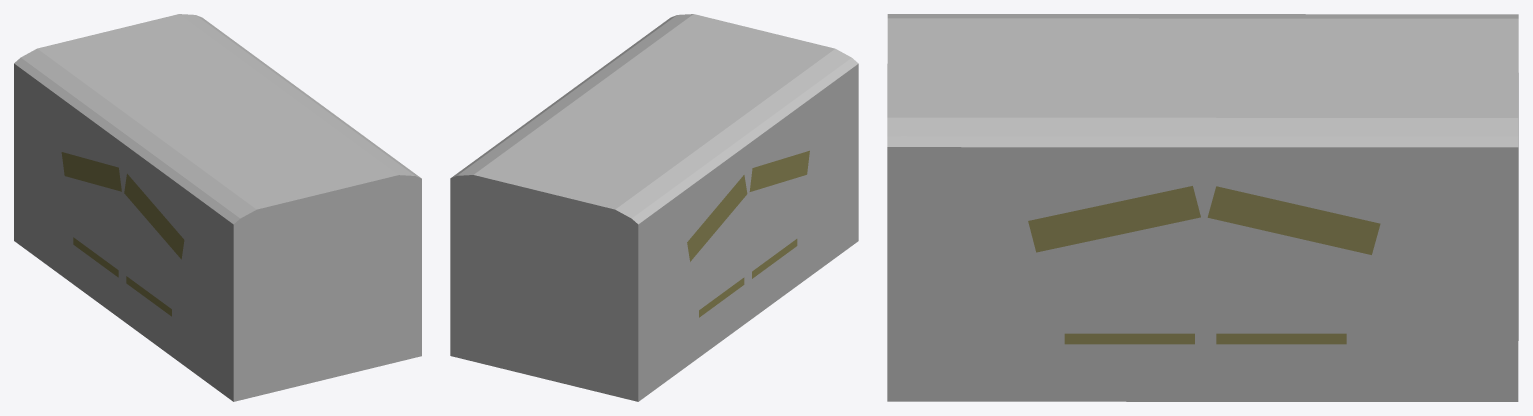
File: box-body.dae
The picture shows the model from 3 angles, left to right: view 1: azimuth 30°, elevation 25°; view 2: azimuth 150°, elevation 25°; view 3: azimuth 270°, elevation 25°; orthographic projection. The views are drawn at different scales.
Visible parts, largest first — view 1: Cube_032, Plane_019, Plane_012, Plane_024, Plane_025; view 2: Cube_032, Plane_012, Plane_019, Plane_025, Plane_024; view 3: Cube_032, Plane_013, Plane_016, Plane_026, Plane_011.
Part boxes in pixels (bbox=[...]): Cube_032: bbox=[14, 14, 421, 401]; Plane_019: bbox=[124, 173, 184, 259]; Plane_012: bbox=[61, 152, 121, 191]; Plane_024: bbox=[126, 276, 171, 316]; Plane_025: bbox=[73, 237, 118, 277]; Cube_032: bbox=[450, 14, 858, 401]; Plane_012: bbox=[687, 175, 747, 261]; Plane_019: bbox=[749, 150, 809, 191]; Plane_025: bbox=[699, 277, 744, 317]; Plane_024: bbox=[752, 239, 797, 278]; Cube_032: bbox=[887, 14, 1518, 401]; Plane_013: bbox=[1207, 186, 1380, 254]; Plane_016: bbox=[1028, 186, 1200, 252]; Plane_026: bbox=[1216, 333, 1346, 344]; Plane_011: bbox=[1064, 333, 1194, 344].
Size of the model in its own units: 1.62 by 3.26 by 1.53.
